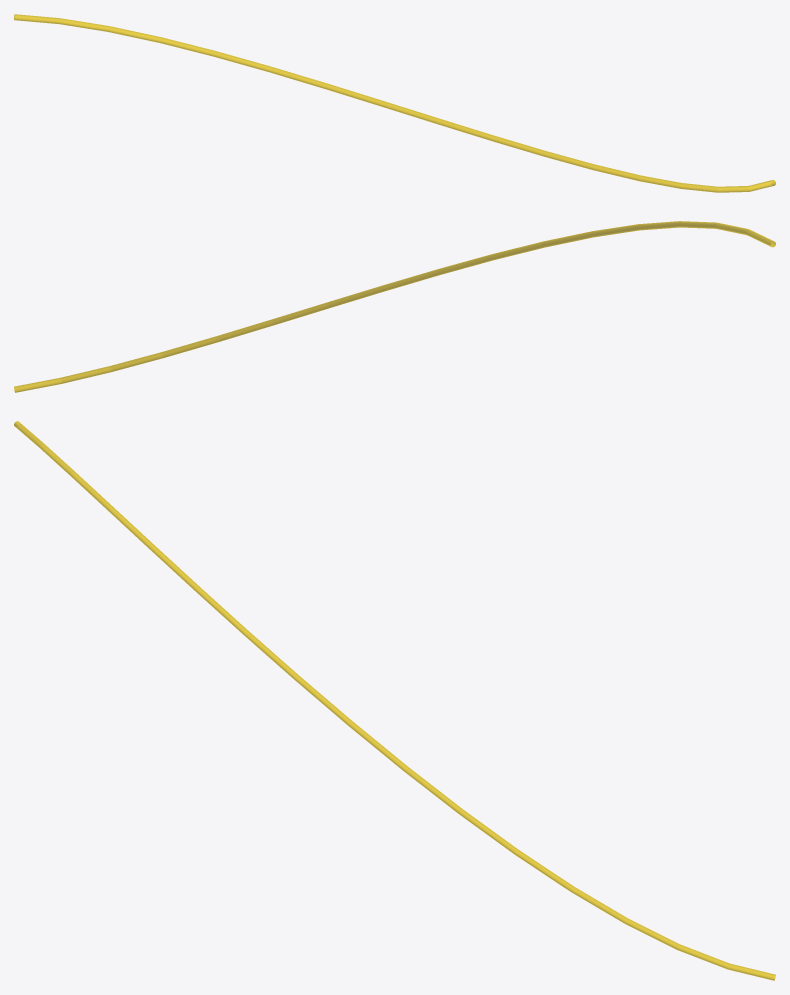
The model's file is Event_17758602_track_11.fbx.
The picture shows the model from 3 angles, top to bottom: view 1: azimuth 30°, elevation 25°; view 2: azimuth 150°, elevation 25°; view 3: azimuth 330°, elevation 25°; orthographic projection. The views are drawn at different scales.
Parts seen in each view (by area): view 1: Model; view 2: Model; view 3: Model.
Part boxes in pixels (x1,y1,x2,y2): Model: [14, 14, 775, 192]; Model: [14, 221, 775, 392]; Model: [14, 421, 775, 980].
Bounding box in the file's own units: 5.62 × 2.44 × 0.7474.
